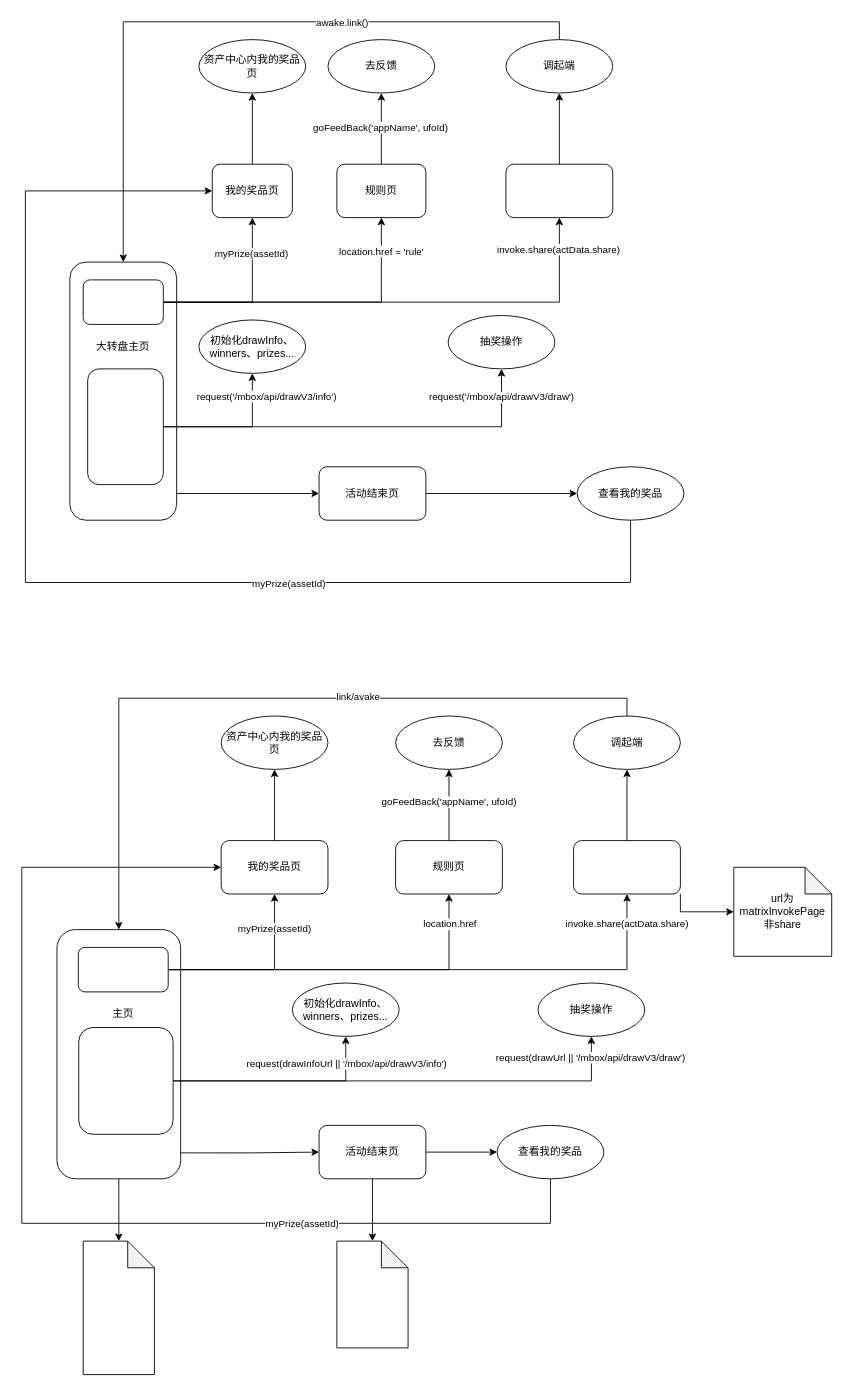
This 847x1390 diagram has some shape labels left out. The shapes that lost their labels are listed below. From the top down, each one's centre as x and y in pixels, then its label:
At pixel 559 190: "端外分享页".
At pixel 122 301: "头部区域".
At pixel 125 426: "大转盘区域".
At pixel 626 867: "端外页/下载页".
At pixel 122 969: "头部组件".
At pixel 125 1080: "抽奖组件".
At pixel 118 1307: "1、带大转盘的home页需要判断是否在端内打开 2、活动结束后重定向到结束页".
At pixel 372 1294: "目前缺少活动结束页".
